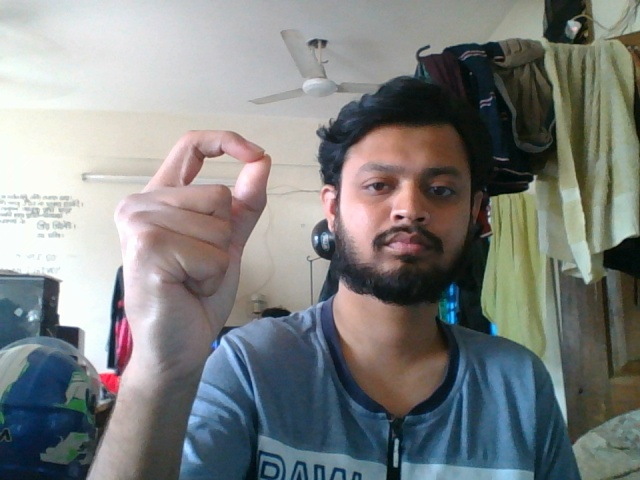gha: (104, 122, 282, 445)
